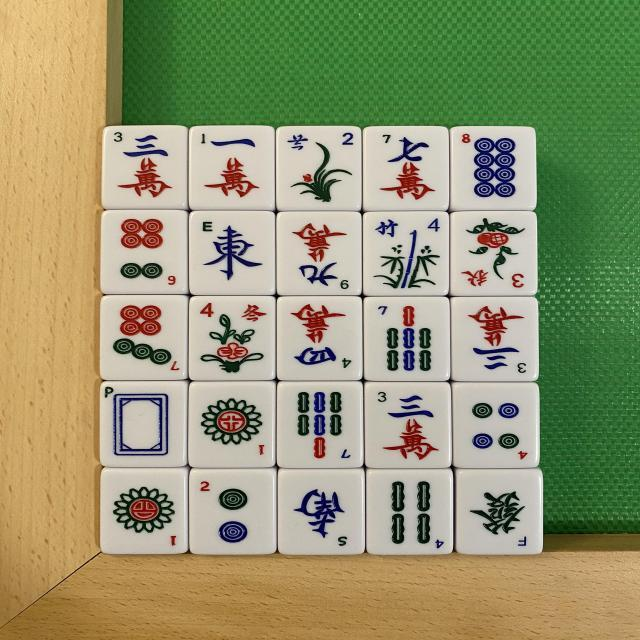bf2: (280, 126, 364, 212)
bf4: (365, 210, 450, 296)
bs3: (457, 215, 533, 291)
bs4: (189, 298, 271, 379)
hdg: (454, 468, 540, 556)
hdw: (101, 382, 188, 470)
hwe: (188, 212, 270, 292)
hws: (286, 475, 356, 551)
sb4: (366, 468, 450, 554)
sb7: (275, 383, 362, 466), (366, 295, 449, 381)
sc1: (190, 127, 273, 210)
sc3: (453, 296, 537, 384), (368, 382, 451, 470), (103, 126, 185, 210)
sc4: (276, 298, 360, 383)
sc7: (366, 126, 448, 211)
sc9: (276, 210, 358, 298)
sd1: (195, 383, 278, 470), (104, 474, 186, 558)
sd2: (189, 470, 277, 557)
sd4: (454, 382, 534, 470)
sd6: (102, 208, 186, 292)
sd7: (104, 293, 188, 378)
sd8: (452, 129, 532, 212)
